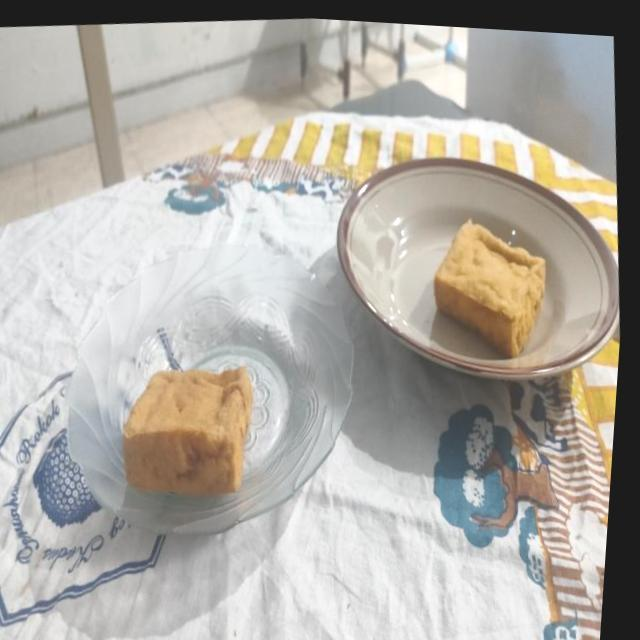tahu_goreng: (122, 366, 252, 495), (434, 218, 544, 358)
